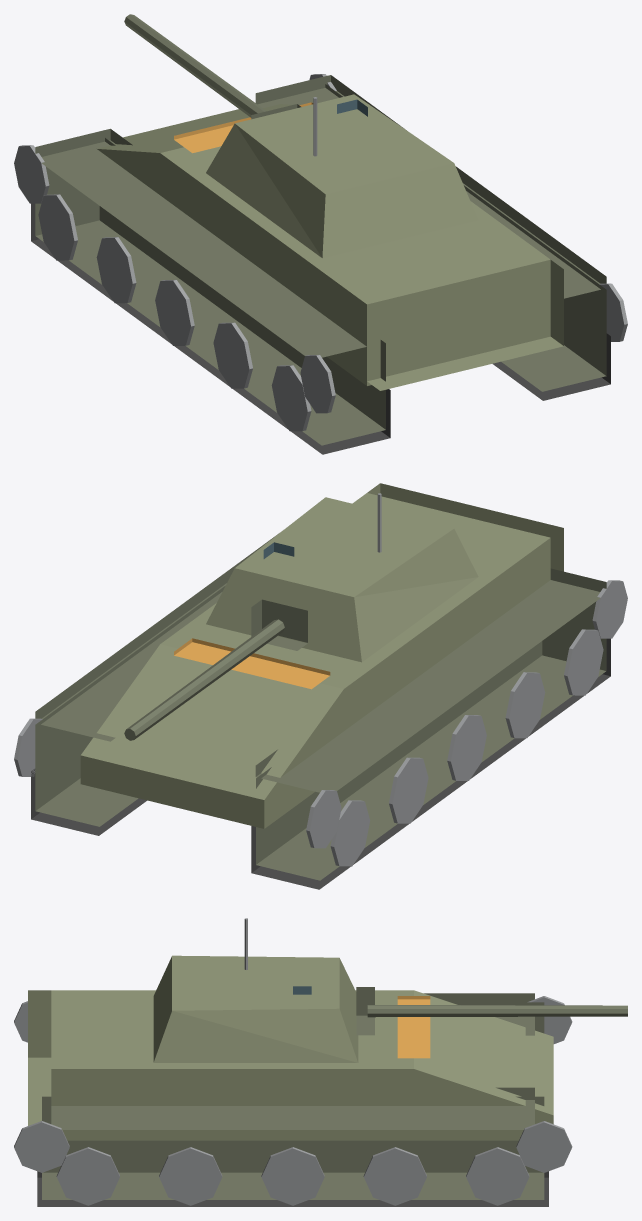
Rendered from mass_swarm_tank.glb.
The picture shows the model from 3 angles, top to bottom: view 1: azimuth 30°, elevation 25°; view 2: azimuth 150°, elevation 25°; view 3: azimuth 270°, elevation 25°; orthographic projection. The views are drawn at different scales.
Visible parts, largest first — view 1: mass_swarm_tank; view 2: mass_swarm_tank; view 3: mass_swarm_tank.
Boxes of the visible parts, x1=… form: mass_swarm_tank: x1=14, y1=14, x2=627, y2=454; mass_swarm_tank: x1=14, y1=483, x2=627, y2=889; mass_swarm_tank: x1=14, y1=918, x2=627, y2=1206.
Bounding box in the file's own units: 3.22 × 2.52 × 6.6.
